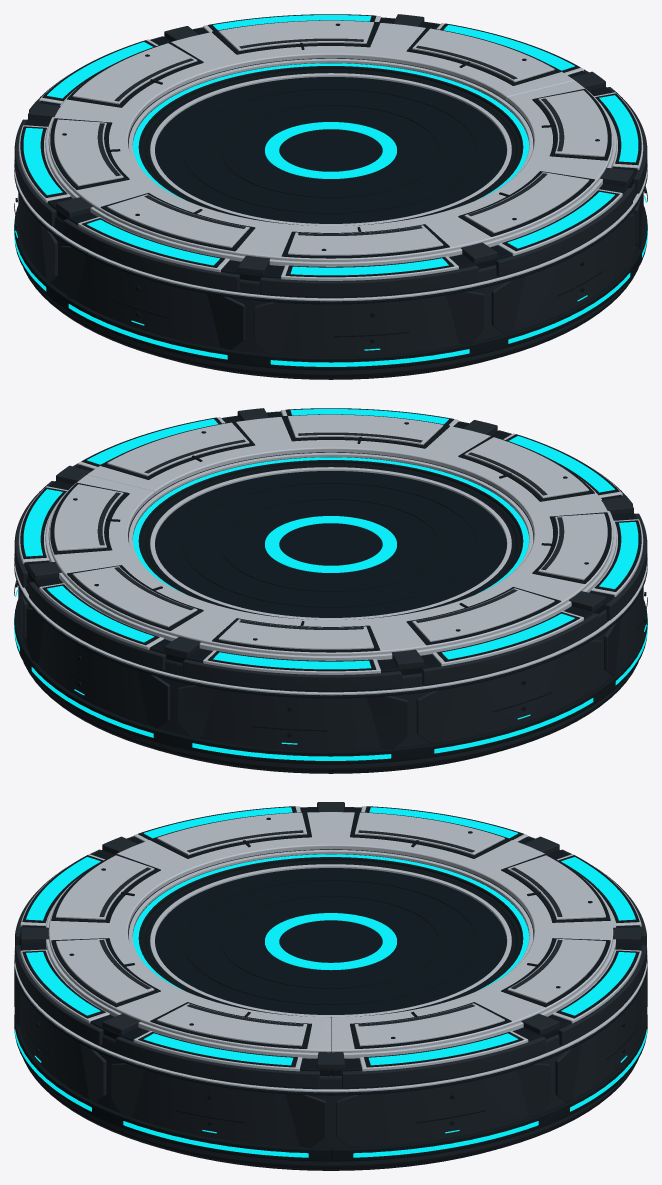
File: Compact.fbx
The picture shows the model from 3 angles, top to bottom: view 1: azimuth 30°, elevation 25°; view 2: azimuth 150°, elevation 25°; view 3: azimuth 270°, elevation 25°; orthographic projection.
Parts seen in each view (by area): view 1: SM_Puck_Compact; view 2: SM_Puck_Compact; view 3: SM_Puck_Compact.
Part boxes in pixels (x1,y1,x2,y2): SM_Puck_Compact: (14, 14, 647, 379); SM_Puck_Compact: (14, 408, 647, 773); SM_Puck_Compact: (14, 802, 647, 1170).
Size of the model in its own units: 71.93 by 71.93 by 14.7.
